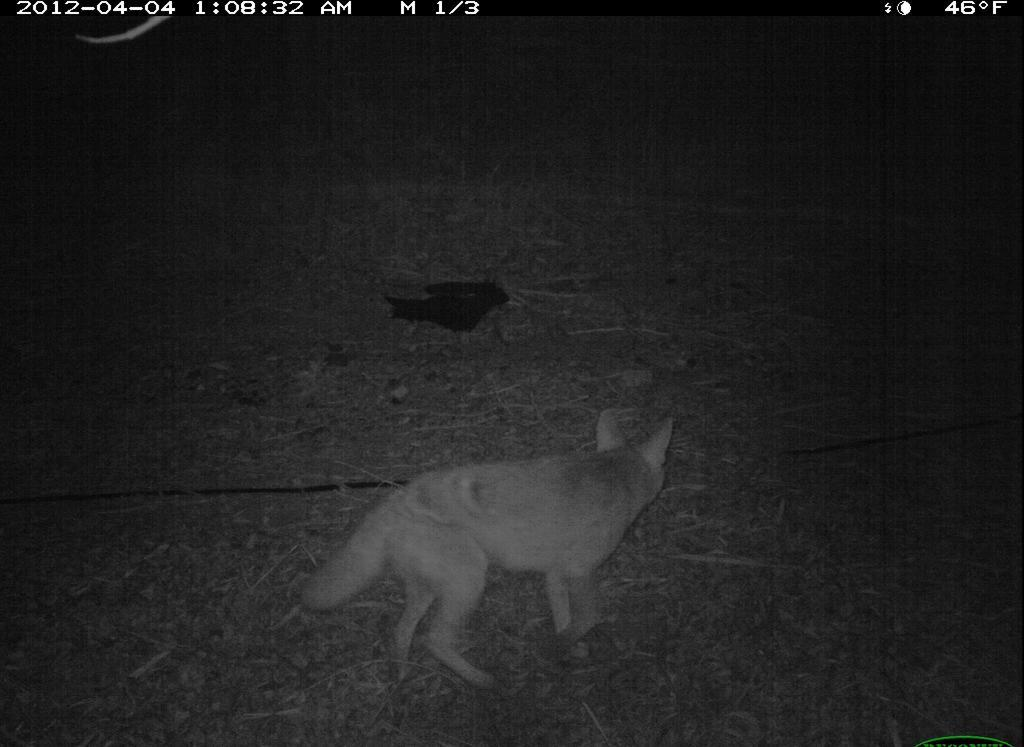coyote: (300, 404, 688, 693)
